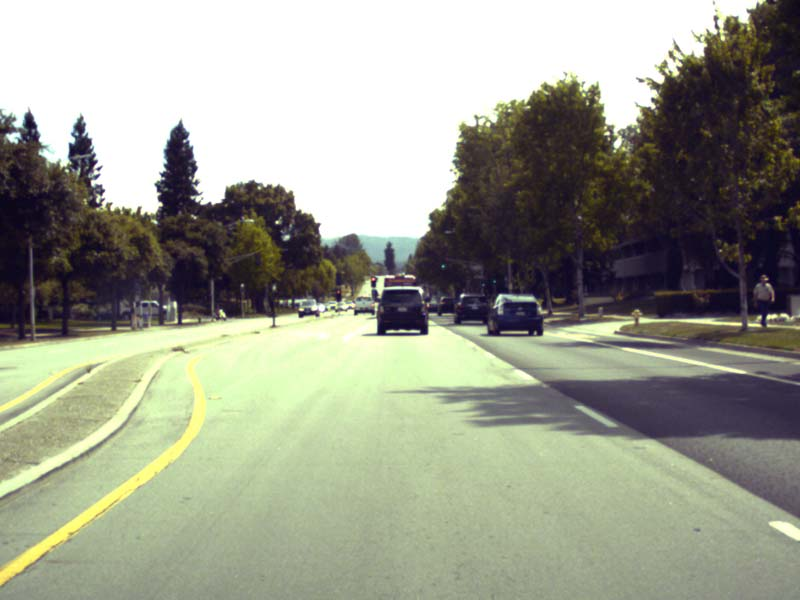Green: (481, 279, 485, 287), (441, 259, 444, 268)
Red: (336, 289, 340, 300), (371, 277, 375, 286)
